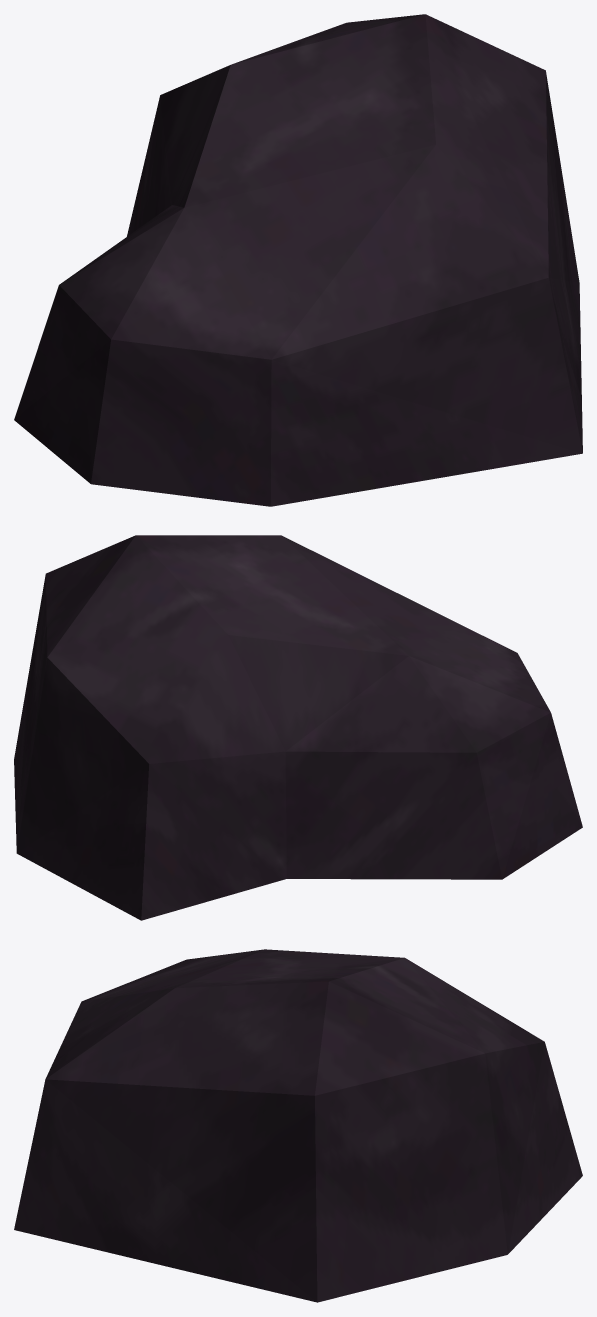
File: cave_rock_01.fbx
The picture shows the model from 3 angles, top to bottom: view 1: azimuth 30°, elevation 25°; view 2: azimuth 150°, elevation 25°; view 3: azimuth 270°, elevation 25°; orthographic projection. The views are drawn at different scales.
Visible parts, largest first — view 1: cave_tileset/rocks01_mat; view 2: cave_tileset/rocks01_mat; view 3: cave_tileset/rocks01_mat.
Part boxes in pixels (x1,y1,x2,y2): cave_tileset/rocks01_mat: (14, 14, 582, 506); cave_tileset/rocks01_mat: (14, 535, 582, 920); cave_tileset/rocks01_mat: (14, 949, 582, 1302).
Bounding box in the file's own units: 0.7832 × 0.3919 × 0.7804.
